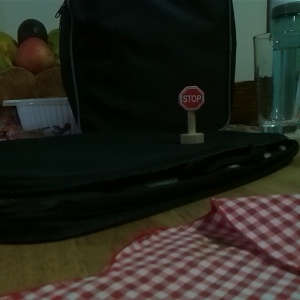stop sign: (176, 83, 206, 145)
